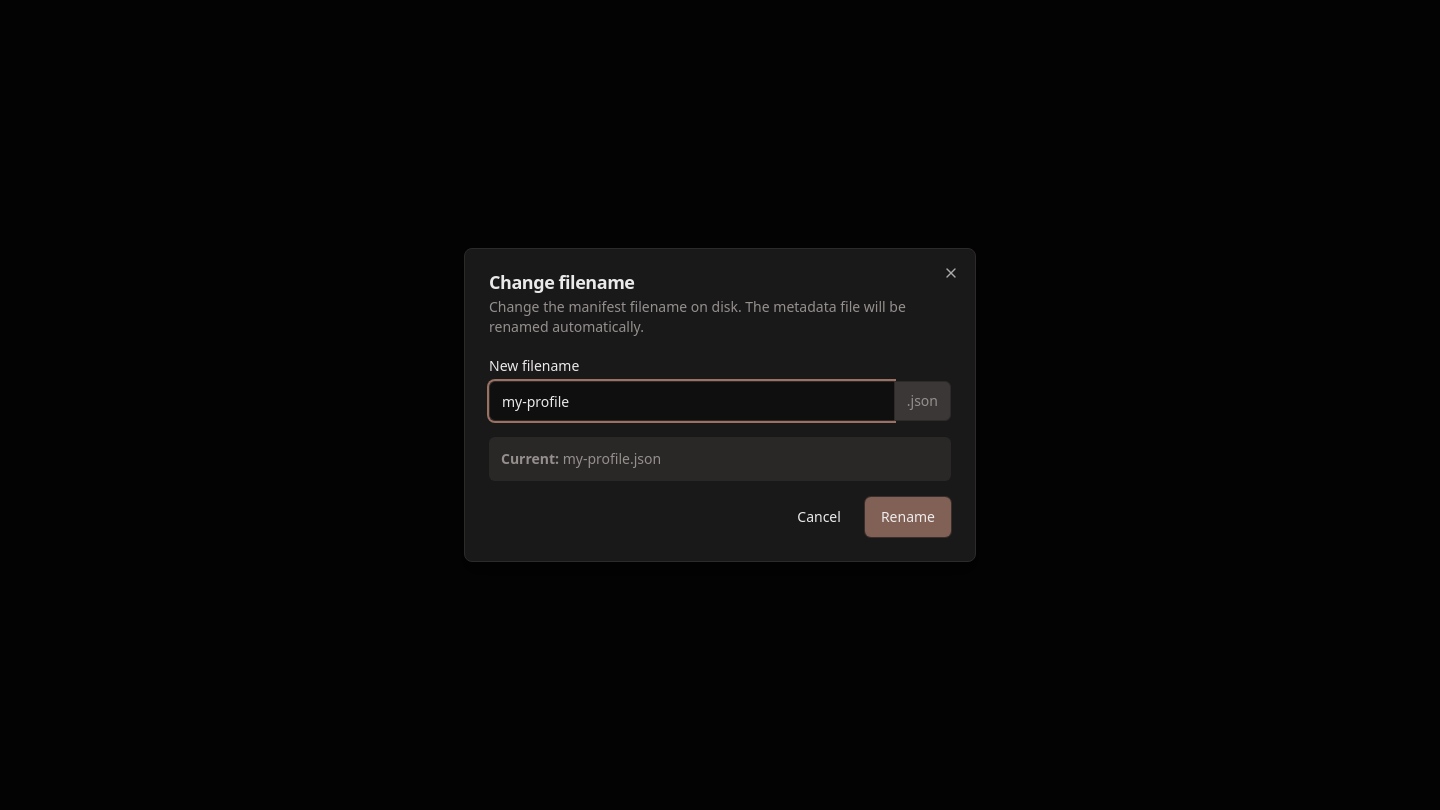
Test: RenameFileModal › Basename validation › shows error when basename contains invalid characters
Step 1. Replace the text in the field with "my<profile>name" → (691, 401), box [489,381,894,421]
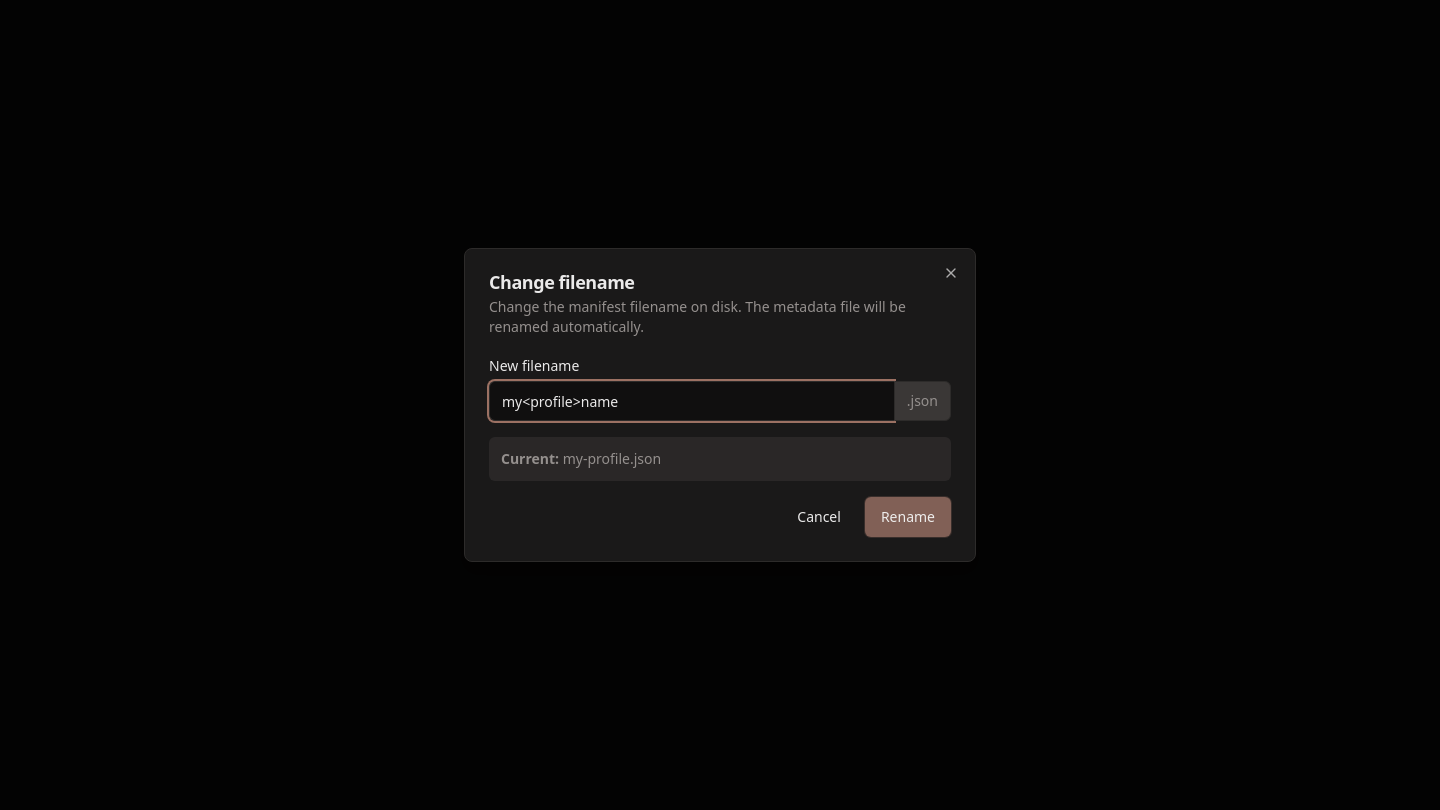
Step 2. Click the button "Rename" → (908, 517), box [865,497,951,537]
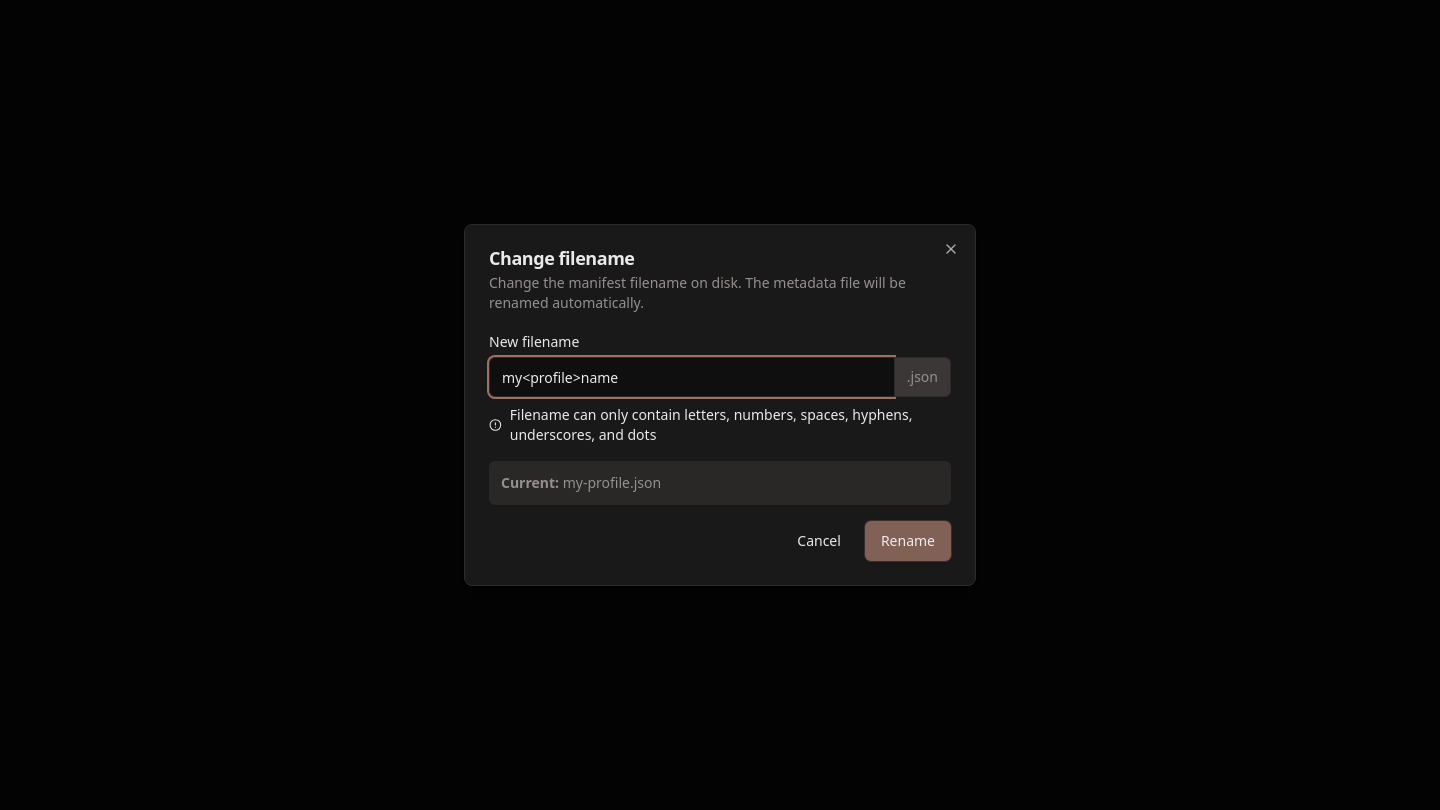
Expected: the text "can only contain" is shown, [510,405,912,444]
